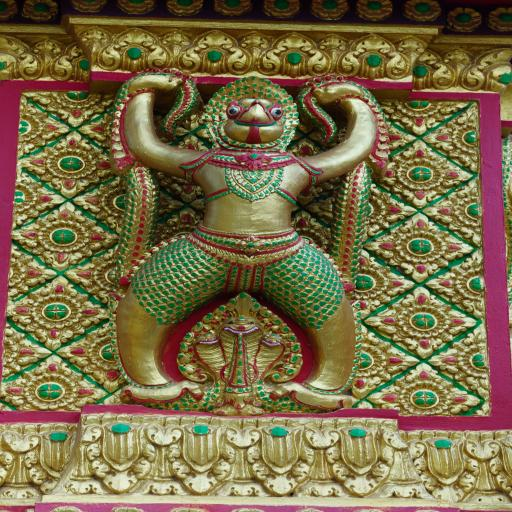hoa: (370, 283, 473, 359), (12, 200, 114, 274), (5, 347, 97, 418), (8, 276, 103, 343), (382, 211, 472, 280), (22, 128, 112, 194), (81, 164, 174, 226), (380, 140, 468, 205), (378, 365, 466, 418), (424, 102, 492, 170), (312, 173, 389, 233), (62, 323, 134, 383), (68, 243, 139, 301), (435, 248, 497, 309), (439, 328, 503, 387), (27, 81, 113, 124), (351, 323, 401, 394), (435, 180, 492, 242), (379, 94, 461, 136), (352, 246, 402, 310), (82, 106, 143, 157), (5, 162, 53, 220), (0, 325, 51, 376), (10, 99, 56, 151), (9, 240, 44, 308), (435, 4, 481, 36), (10, 0, 62, 23), (346, 0, 393, 24), (397, 0, 439, 26), (116, 0, 163, 22), (260, 0, 300, 25), (305, 0, 348, 22), (66, 0, 107, 22), (484, 4, 512, 36), (162, 0, 204, 21), (207, 0, 253, 19), (0, 0, 17, 25)
la: (72, 416, 170, 494), (412, 428, 508, 504), (148, 420, 244, 493), (233, 419, 318, 500), (0, 415, 83, 495), (312, 421, 394, 496), (86, 26, 170, 69), (0, 32, 75, 80), (178, 26, 248, 72), (262, 30, 332, 76), (416, 46, 476, 91), (338, 32, 393, 77)
than: (102, 69, 383, 414)
